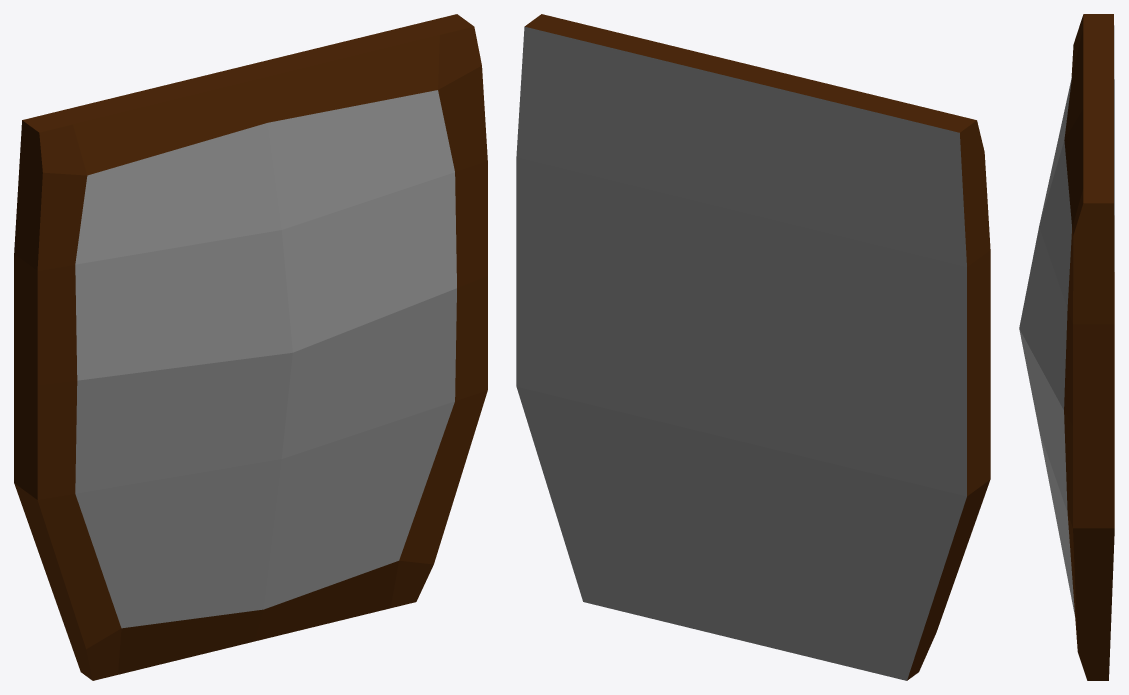
The model's file is shield.obj.
3 views of the same model, side by side, from view 1: azimuth 30°, elevation 25°; view 2: azimuth 150°, elevation 25°; view 3: azimuth 270°, elevation 25° (orthographic). The views are drawn at different scales.
Visible parts, largest first — view 1: shield; view 2: shield; view 3: shield.
Boxes of the visible parts, x1,y1,x2,y2 form: shield: (14,14,487,680); shield: (516,14,990,680); shield: (1019,14,1114,680).
Size of the model in its own units: 0.194 by 0.232 by 0.04.
